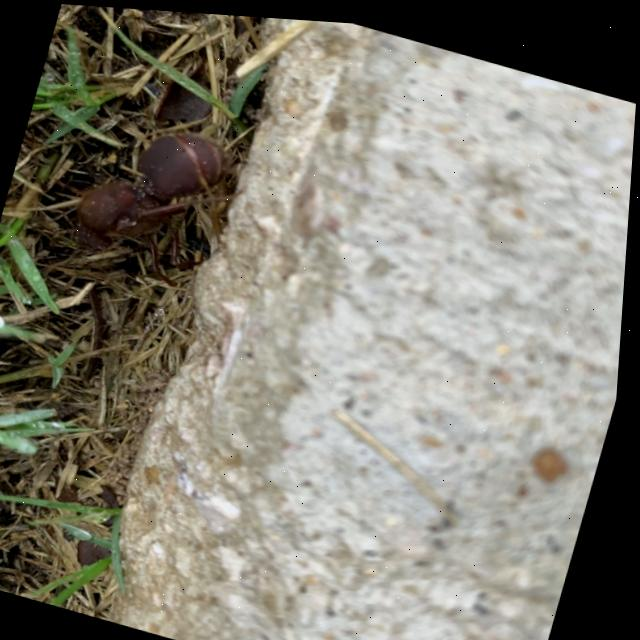Alive-Female-Dealate: (36, 95, 259, 297)
